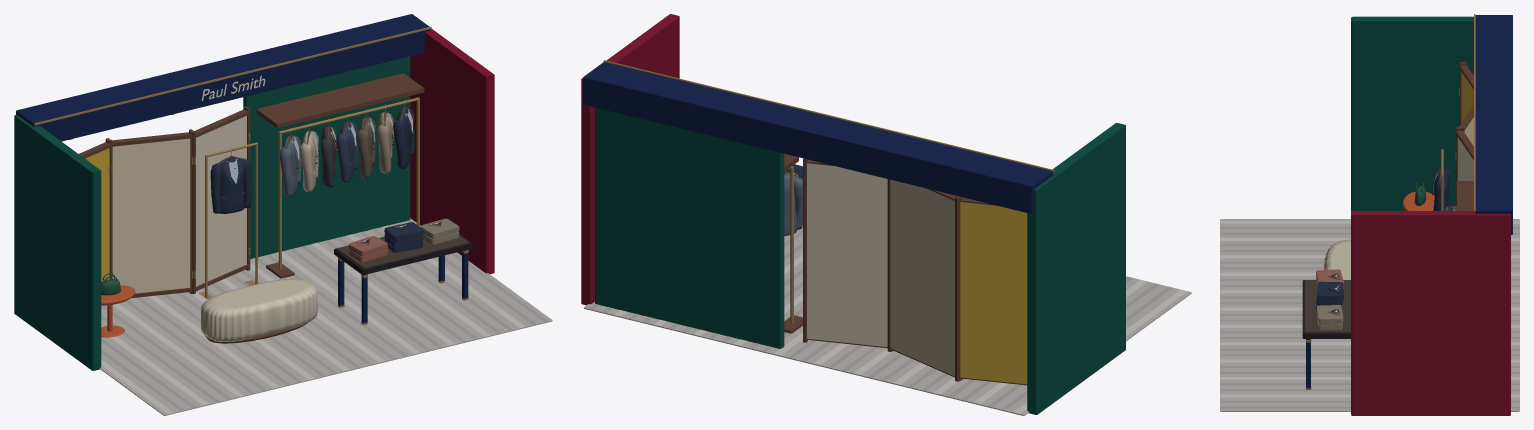
The model's file is gallery.glb.
3 views of the same model, side by side, from view 1: azimuth 30°, elevation 25°; view 2: azimuth 150°, elevation 25°; view 3: azimuth 270°, elevation 25° (orthographic). The views are drawn at different scales.
Visible parts, largest first — view 1: PaulSmithGangnamScreens, PaulSmithGangnamTailoring; view 2: PaulSmithGangnamScreens, PaulSmithGangnamTailoring; view 3: PaulSmithGangnamScreens, PaulSmithGangnamTailoring.
Part boxes in pixels (box(x1,y1,x2,y2)): PaulSmithGangnamScreens: box(14, 14, 552, 415); PaulSmithGangnamTailoring: box(210, 108, 459, 262); PaulSmithGangnamScreens: box(581, 14, 1191, 415); PaulSmithGangnamTailoring: box(784, 164, 802, 235); PaulSmithGangnamScreens: box(1220, 14, 1519, 415); PaulSmithGangnamTailoring: box(1316, 167, 1456, 330).
Bounding box in the file's own units: 6.24 × 3 × 3.98.
Materials: 2 (1 with a texture image).
